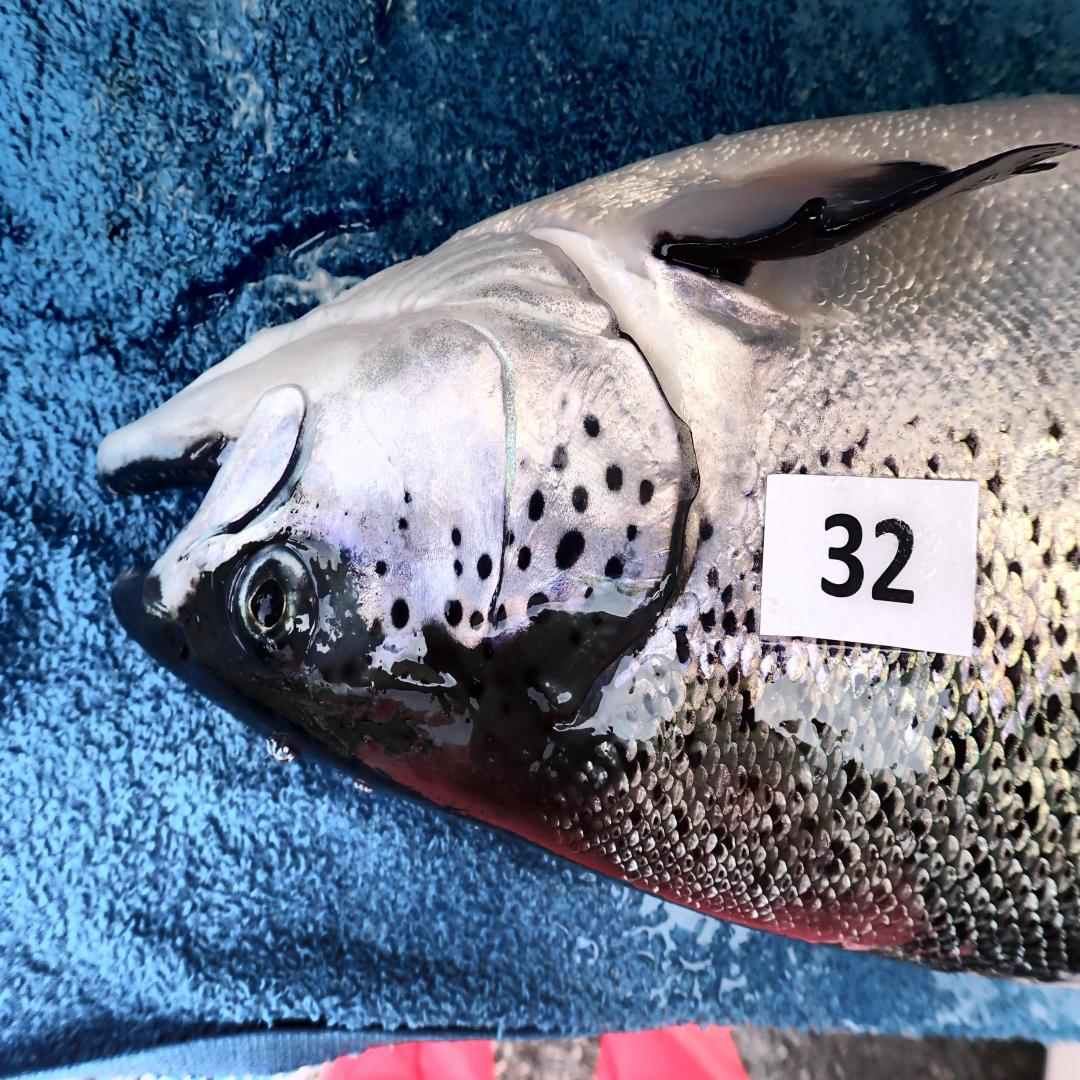spot: (555, 529, 584, 571), (527, 591, 548, 622), (390, 599, 409, 630), (605, 464, 622, 492), (572, 487, 589, 515), (445, 599, 462, 627), (529, 489, 544, 520), (603, 557, 624, 579), (584, 413, 601, 439), (639, 478, 654, 503), (517, 546, 532, 571), (553, 444, 567, 470), (477, 554, 491, 579), (494, 604, 506, 631), (582, 587, 595, 610), (469, 610, 484, 629), (375, 560, 388, 577), (451, 526, 462, 546), (626, 523, 637, 540), (454, 560, 464, 577), (397, 518, 409, 532), (403, 489, 413, 503), (506, 531, 515, 545), (560, 397, 568, 412), (520, 459, 527, 472)
